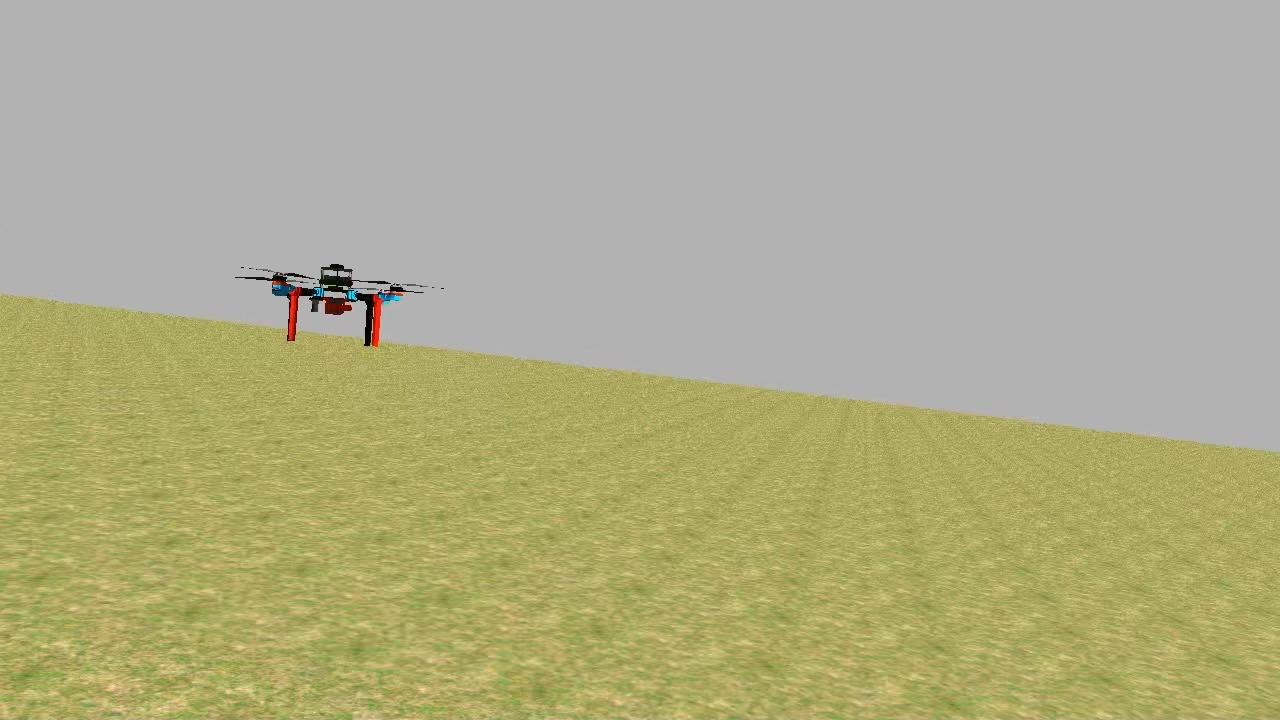UAV: (262, 254, 408, 354)
